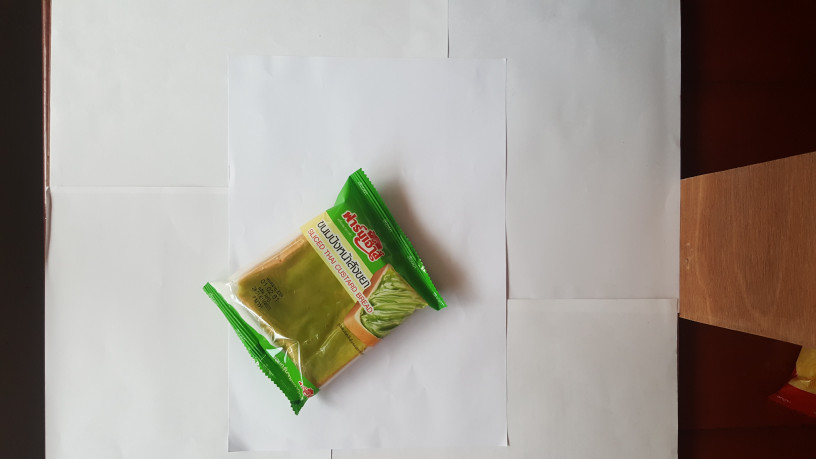farmhouse-bread-pandan: (192, 173, 442, 421)
